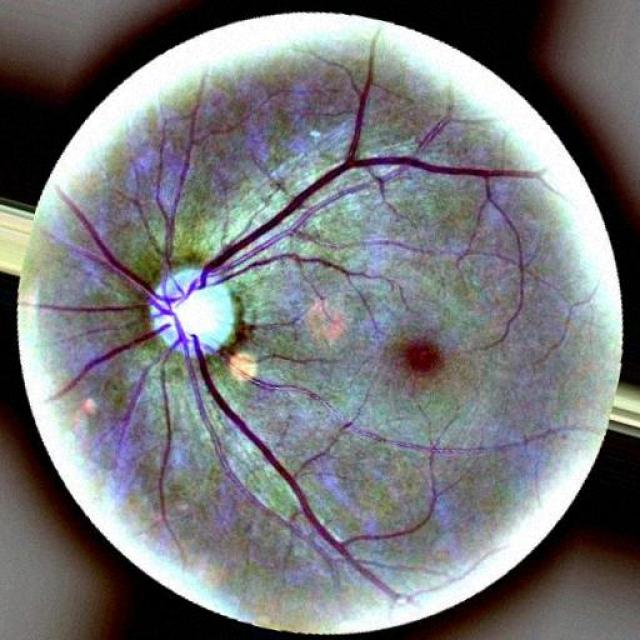Macula: (402, 340, 441, 375)
Nerves: (59, 90, 538, 395), (61, 195, 340, 549), (240, 420, 339, 548)
Optic Disk: (150, 268, 236, 352)
